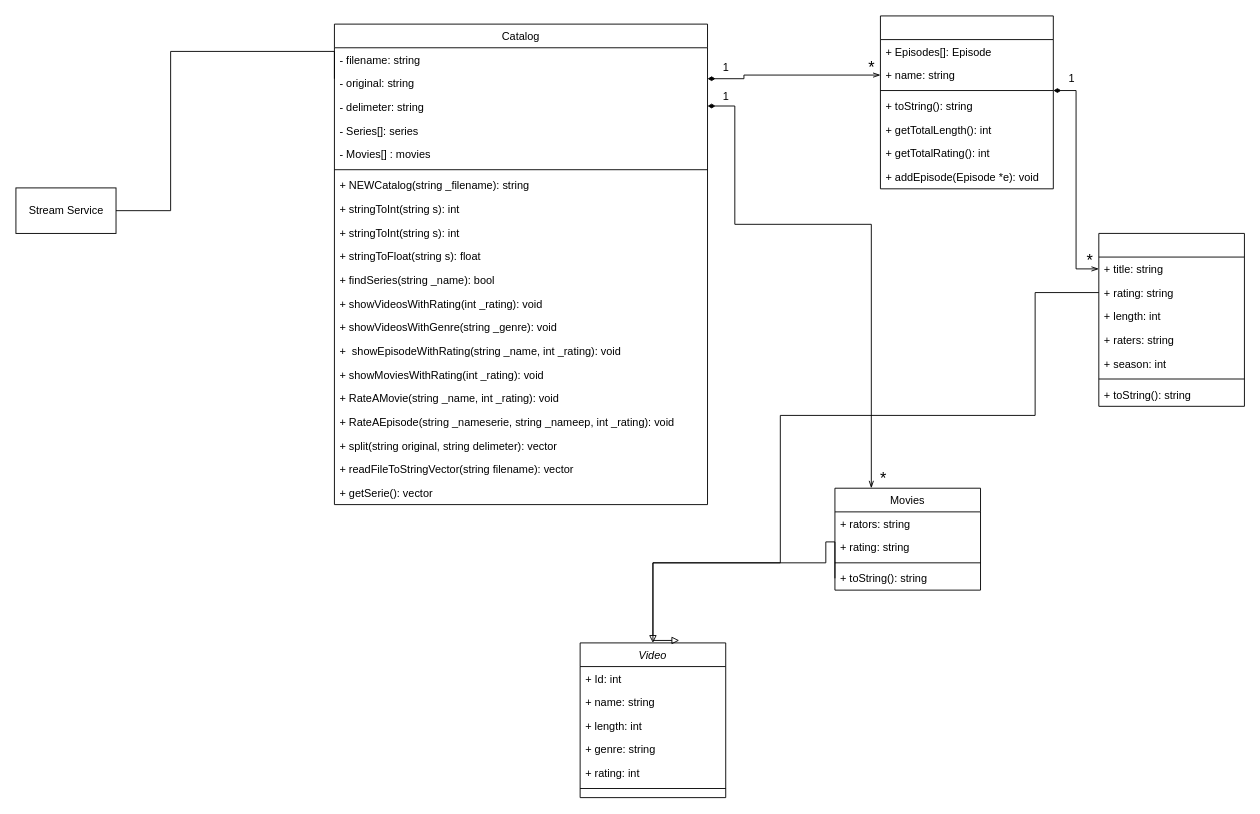
This 1260x814 diagram has some shape labels left out. The shapes that lost their labels are listed below. From the top down, each one's box as (x1, y1, x2, y2) in pixels, then its label:
(880, 15, 1053, 189): Series
(1098, 233, 1244, 406): Episode
